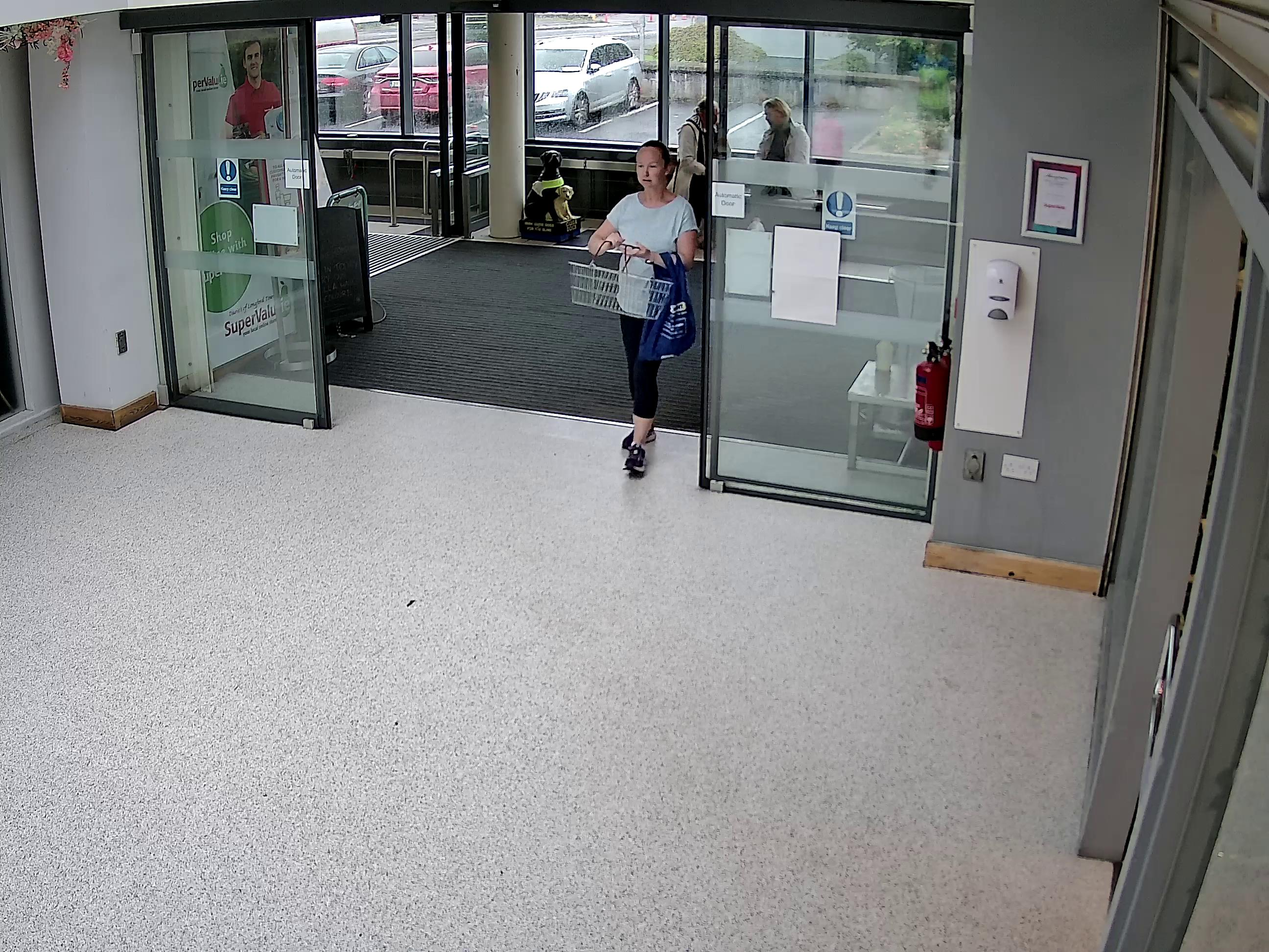empty-basket: (568, 238, 673, 319)
empty-shopping-bags: (639, 249, 696, 359)
person: (588, 141, 700, 471)
person-with-basket-trolly-and-shopping-bag: (569, 140, 699, 471)
